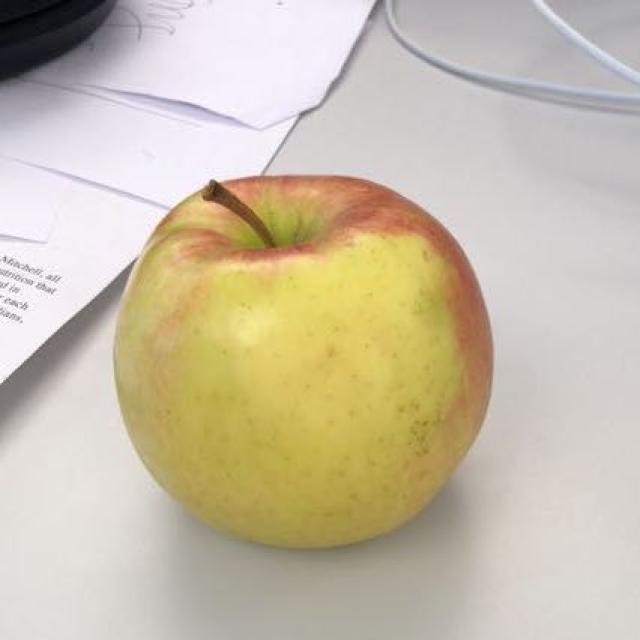Apple: (102, 162, 501, 561)
